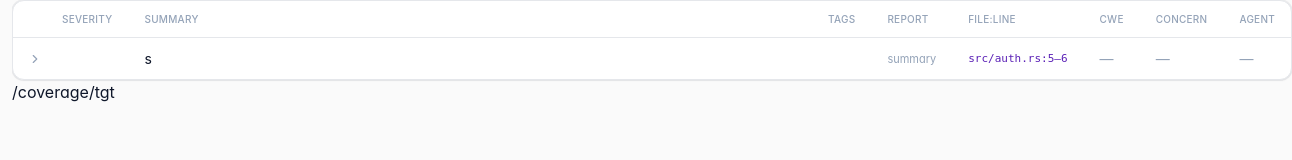
Test case: FindingsTable deep-link › falls back to the table-level wsId when the row carries none (CoverageDetail shape)
The image size is (1292, 160).
Click the button "src/auth.rs:5–6" at (1018, 58), box [968, 48, 1068, 68]
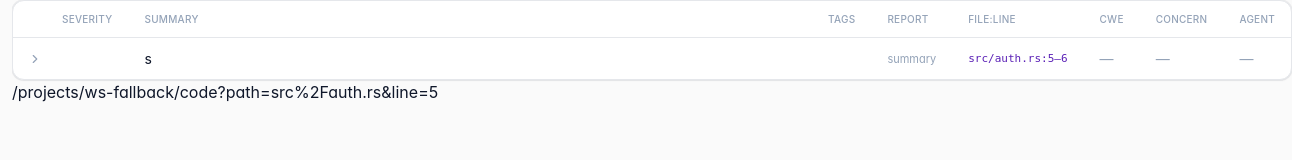
Expected: the text with test id "loc" reads "/projects/ws-fallback/code?path=src%2Fauth.rs&line=5", [12, 82, 438, 102]
